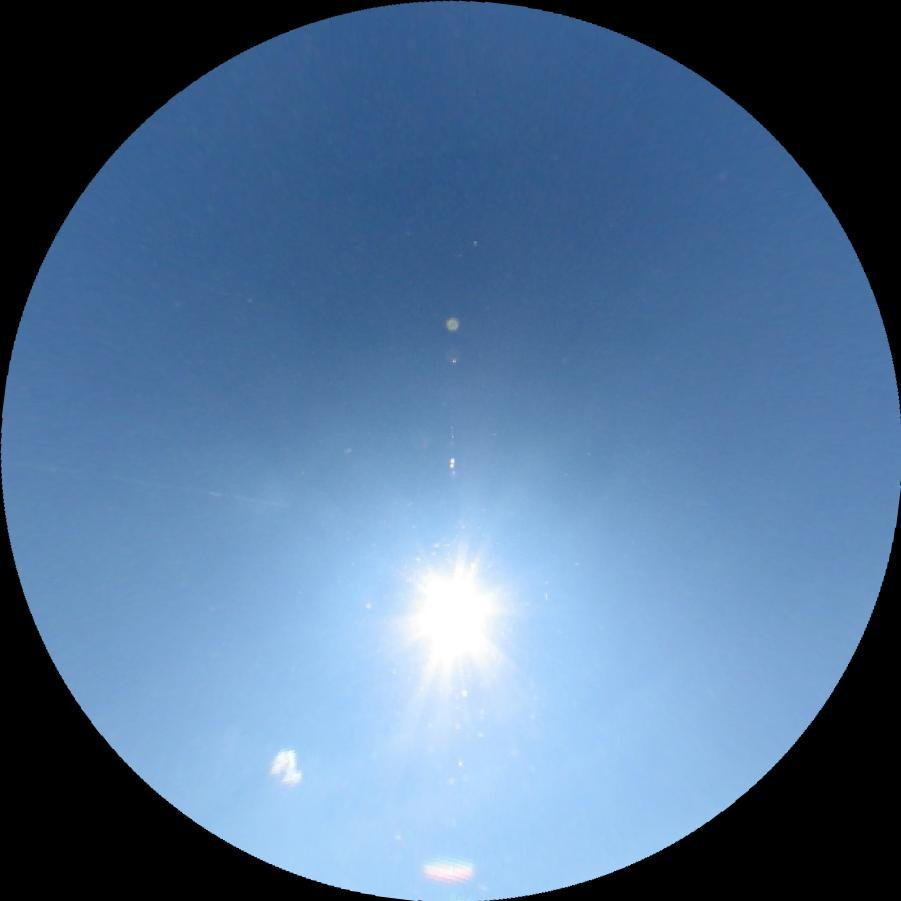sun: (390, 549, 512, 677)
